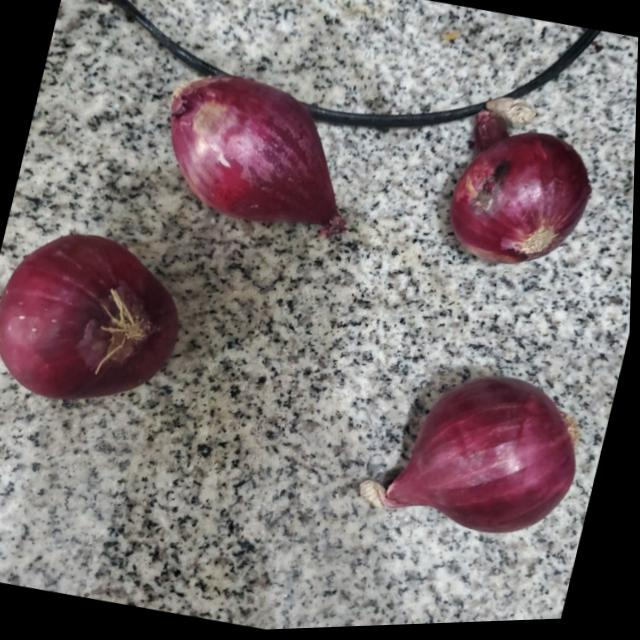onion: (144, 60, 374, 258), (373, 361, 599, 555), (0, 211, 197, 426), (433, 96, 606, 279)
